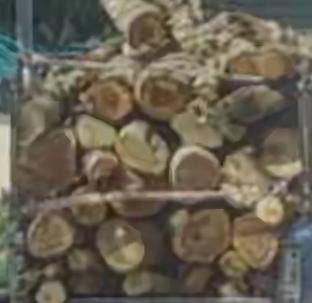large: (17, 128, 74, 196), (168, 208, 231, 263), (133, 64, 189, 118), (115, 123, 169, 172), (109, 171, 169, 215), (98, 217, 145, 272), (171, 148, 218, 202), (218, 86, 286, 122), (222, 155, 269, 207), (174, 102, 225, 147), (234, 217, 278, 267), (263, 130, 301, 179), (29, 216, 74, 256), (85, 84, 133, 120), (228, 48, 286, 77), (79, 149, 119, 185), (77, 115, 115, 148), (128, 12, 162, 48), (16, 106, 45, 147), (72, 189, 104, 225), (257, 195, 286, 225)
medium: (221, 252, 246, 277), (37, 281, 66, 302), (123, 273, 149, 296), (228, 125, 246, 143)
small: (68, 252, 84, 269), (46, 266, 56, 277)
